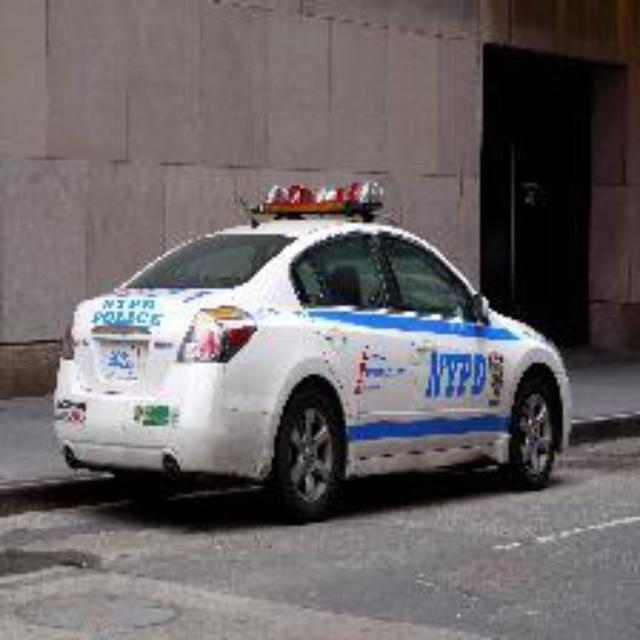emergency: (61, 166, 578, 540)
